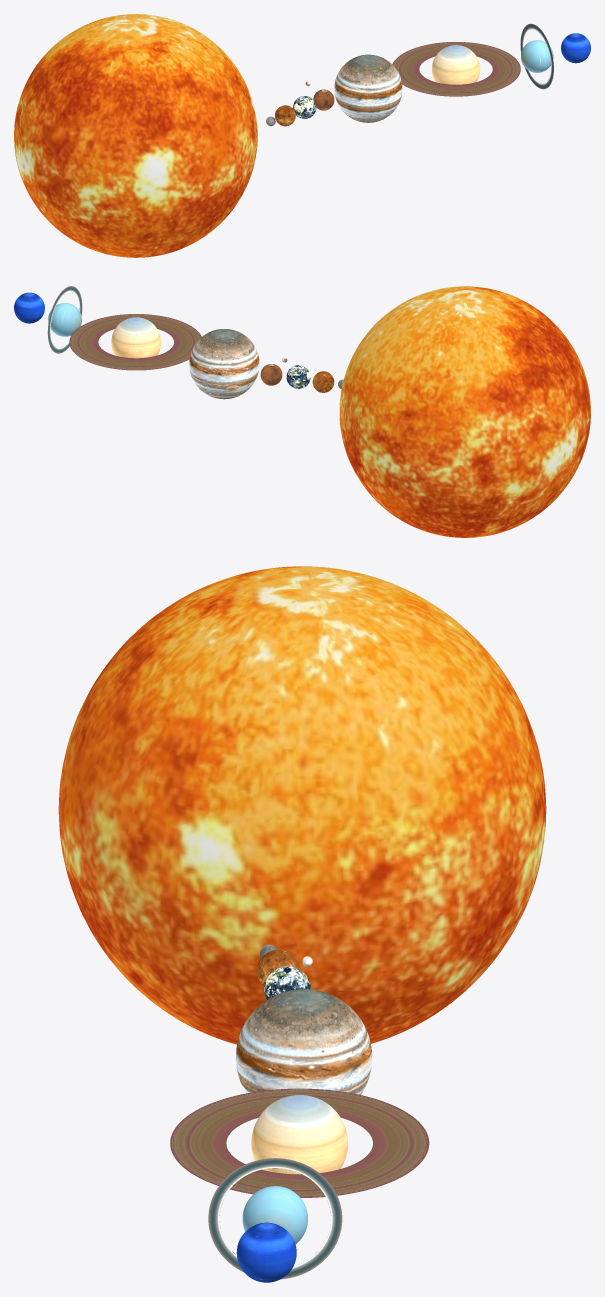
3 renders of one model, top to bottom at view 1: azimuth 30°, elevation 25°; view 2: azimuth 150°, elevation 25°; view 3: azimuth 270°, elevation 25°, orthographic. The views are drawn at different scales.
Parts seen in each view (by area): view 1: node_id30, node_id67, node_id75, node_id73, node_id82, node_id91, node_id84, node_id49, node_id61, node_id42; view 2: node_id30, node_id67, node_id75, node_id73, node_id82, node_id91, node_id84, node_id49, node_id61, node_id42; view 3: node_id30, node_id75, node_id67, node_id73, node_id84, node_id91, node_id82, node_id49.
Boxes of the visible parts, x1,y1,x2,y2 form: node_id30: (14,14,257,257); node_id67: (334,54,402,122); node_id75: (392,42,520,96); node_id73: (432,45,480,84); node_id82: (521,40,553,72); node_id91: (561,33,590,63); node_id84: (520,23,553,89); node_id49: (293,96,316,119); node_id61: (313,89,334,110); node_id42: (275,105,295,126); node_id30: (339,286,590,537); node_id67: (189,329,259,399); node_id75: (69,314,201,370); node_id73: (111,317,161,358); node_id82: (48,303,81,336); node_id91: (14,292,44,323); node_id84: (47,286,82,353); node_id49: (286,365,310,389); node_id61: (260,364,282,385); node_id42: (312,371,334,392); node_id30: (58,566,546,1044); node_id75: (170,1088,429,1197); node_id67: (236,989,372,1094); node_id73: (251,1095,347,1174); node_id84: (208,1158,342,1279); node_id91: (236,1222,296,1282); node_id82: (242,1186,307,1243); node_id49: (264,966,310,999).
Bounding box in the file's own units: 2 × 0.7679 × 0.7679.
12 materials, 12 textured.
